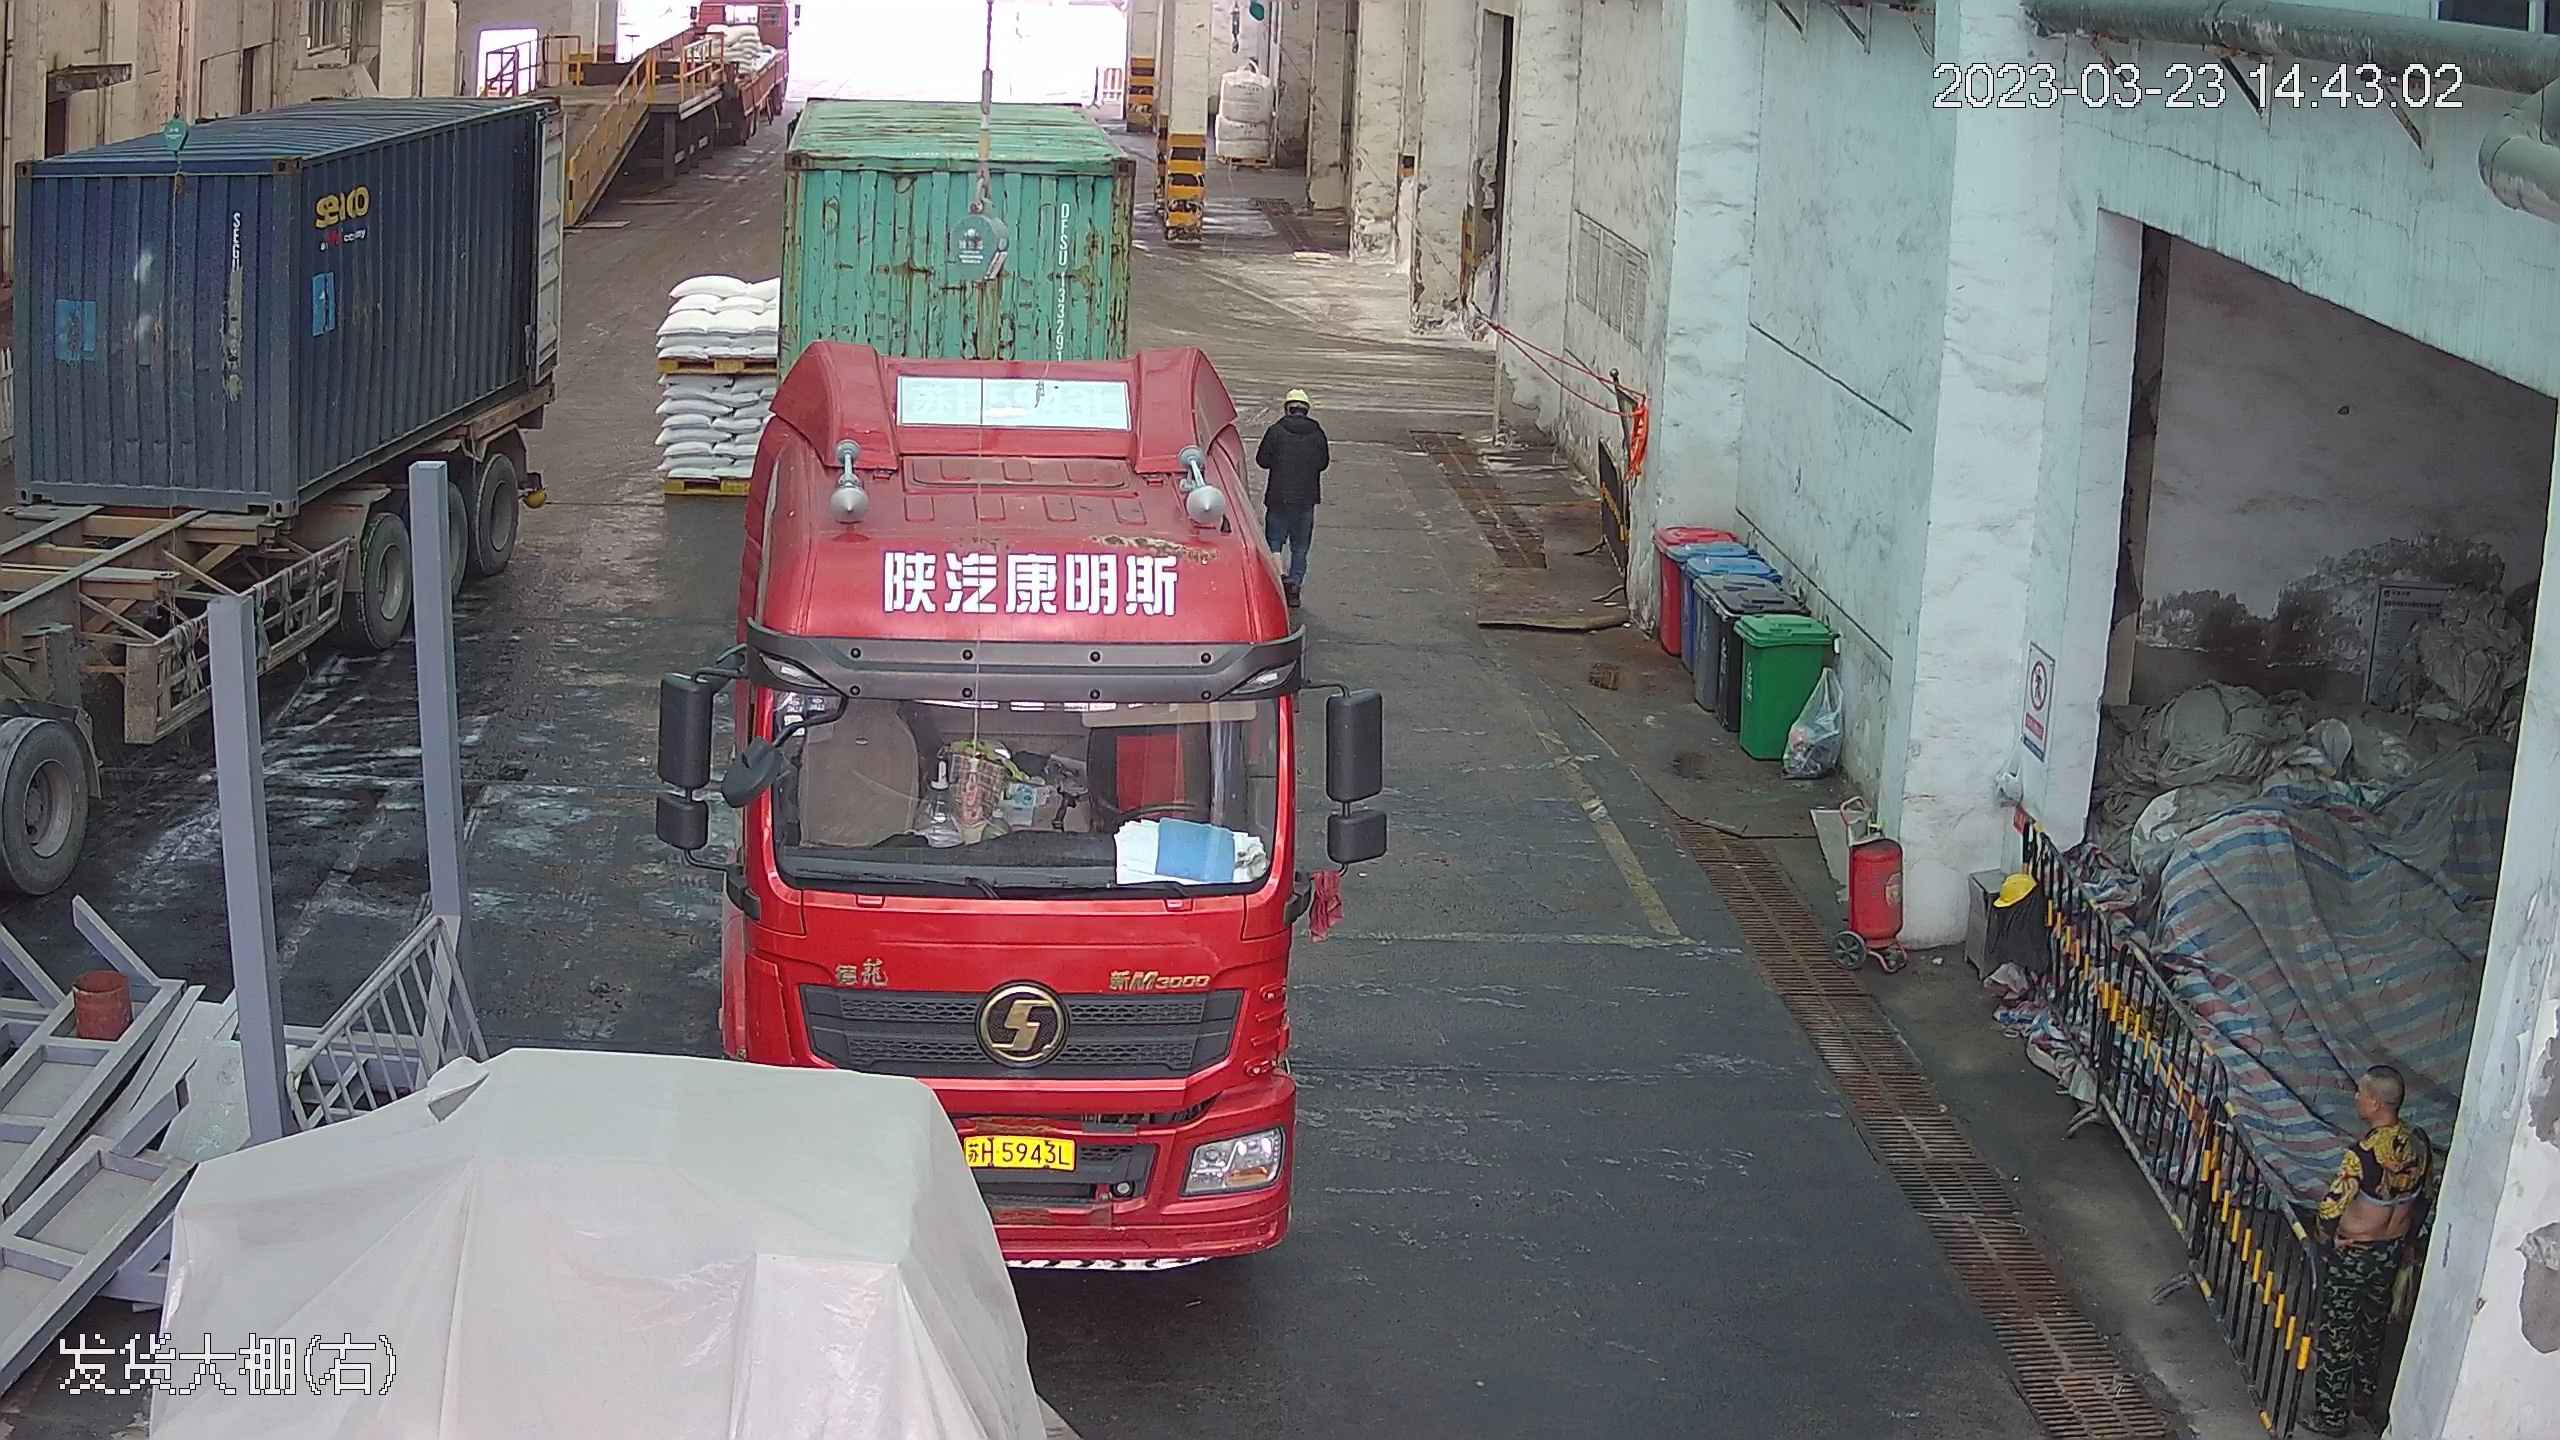head: (1262, 381, 1328, 451)
helmet: (1283, 381, 1316, 407)
people: (1253, 377, 1332, 608)
truck: (703, 73, 1326, 1253), (1, 9, 580, 1146)
